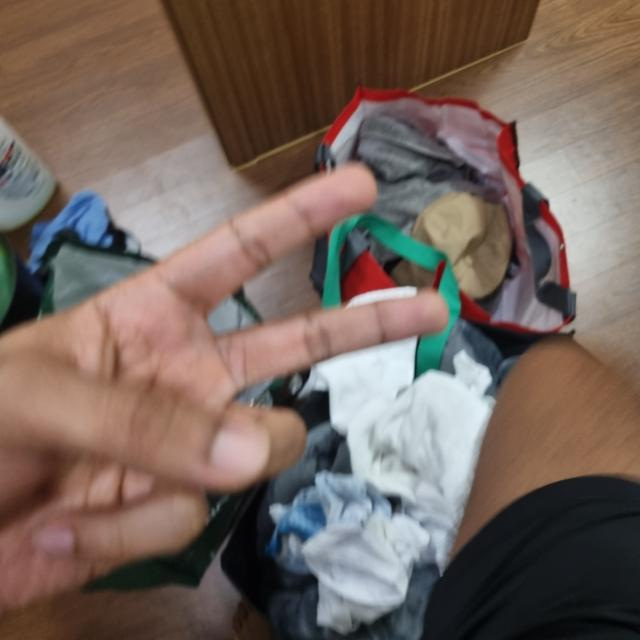Scissors: (0, 165, 443, 629)
